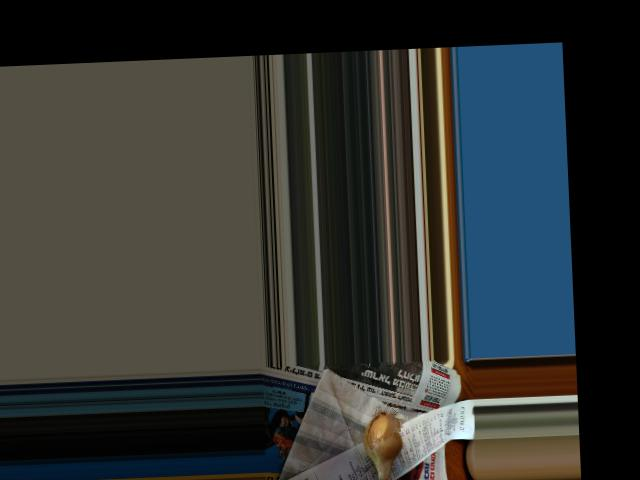onion: (363, 416, 400, 480)
